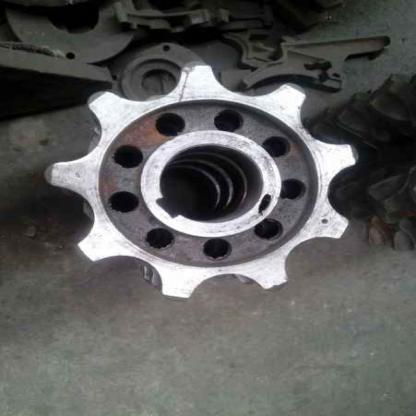FOD: (38, 58, 360, 302)
